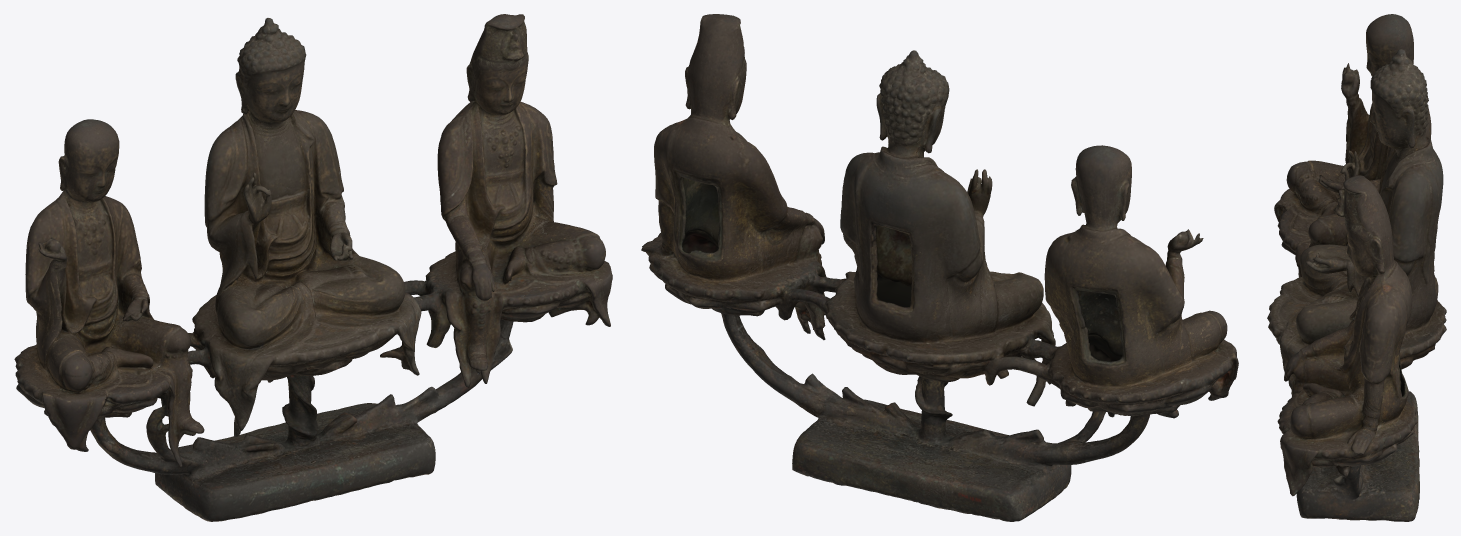
The model's file is source.glb.
The picture shows the model from 3 angles, left to right: view 1: azimuth 30°, elevation 25°; view 2: azimuth 150°, elevation 25°; view 3: azimuth 270°, elevation 25°; orthographic projection. The views are drawn at different scales.
Visible parts, largest first — view 1: Object_3; view 2: Object_3; view 3: Object_3.
Part boxes in pixels (bbox=[...]): Object_3: bbox=[14, 14, 612, 521]; Object_3: bbox=[641, 14, 1238, 521]; Object_3: bbox=[1267, 14, 1446, 521].
Size of the model in its own units: 0.5402 by 0.401 by 0.1556.
Materials: 1 (1 with a texture image).
